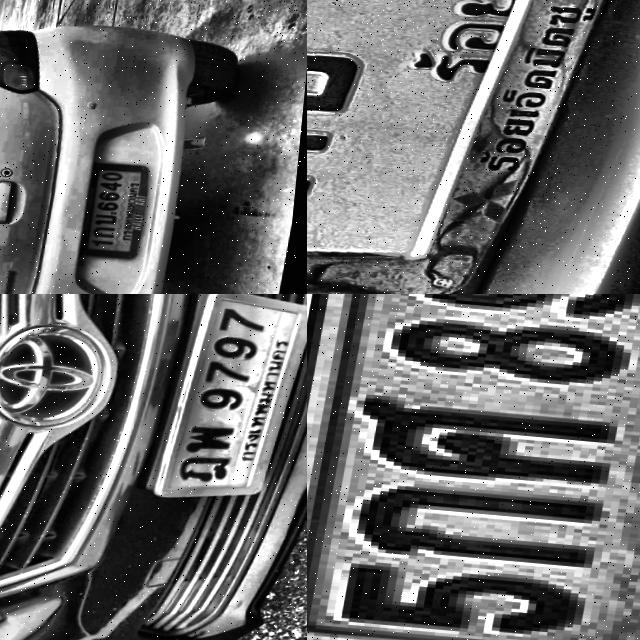license-plate: (307, 294, 640, 640), (307, 0, 640, 294), (142, 294, 307, 506), (83, 158, 162, 258)
